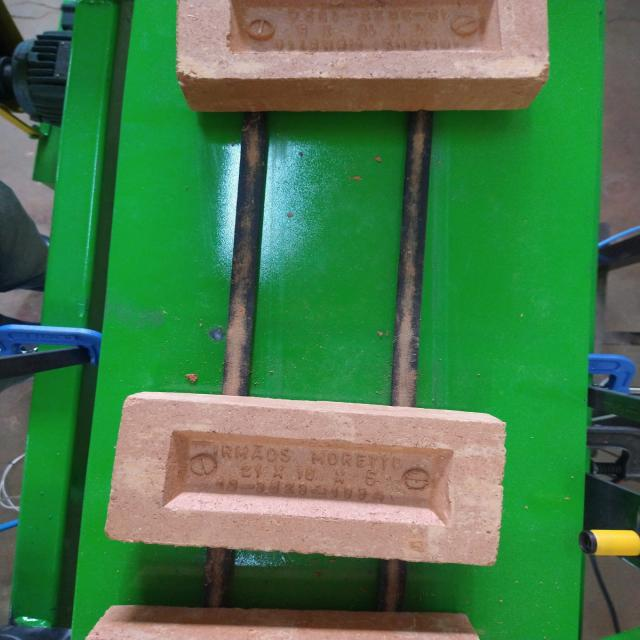bricks: (104, 392, 505, 568), (176, 2, 548, 114), (83, 604, 477, 640)
